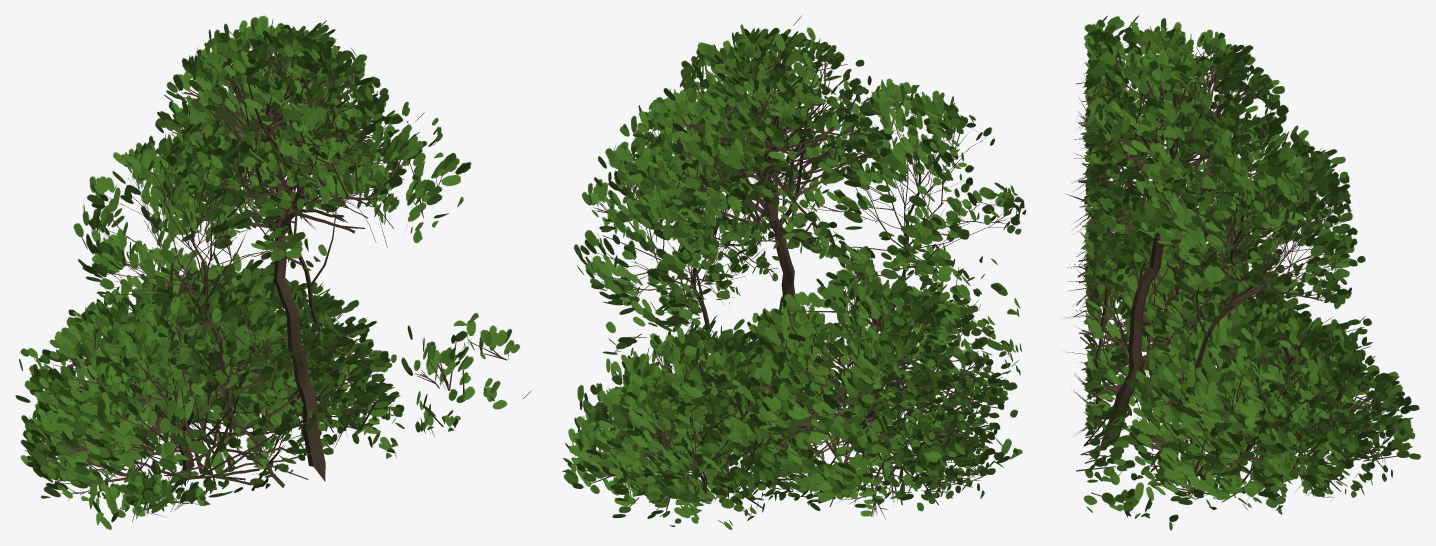
3 views of the same model, side by side, from view 1: azimuth 30°, elevation 25°; view 2: azimuth 150°, elevation 25°; view 3: azimuth 270°, elevation 25° (orthographic). The views are drawn at different scales.
Parts seen in each view (by area): view 1: oak 01.001_trunk_Mat.001_0.276; view 2: oak 01.001_trunk_Mat.001_0.276; view 3: oak 01.001_trunk_Mat.001_0.276.
Boxes of the visible parts, x1=… form: oak 01.001_trunk_Mat.001_0.276: x1=15, y1=15, x2=531, y2=529; oak 01.001_trunk_Mat.001_0.276: x1=562, y1=15, x2=1025, y2=529; oak 01.001_trunk_Mat.001_0.276: x1=1062, y1=15, x2=1421, y2=530.
Size of the model in its own units: 3.49 by 3.34 by 2.5.
Materials: 2 (1 with a texture image).
